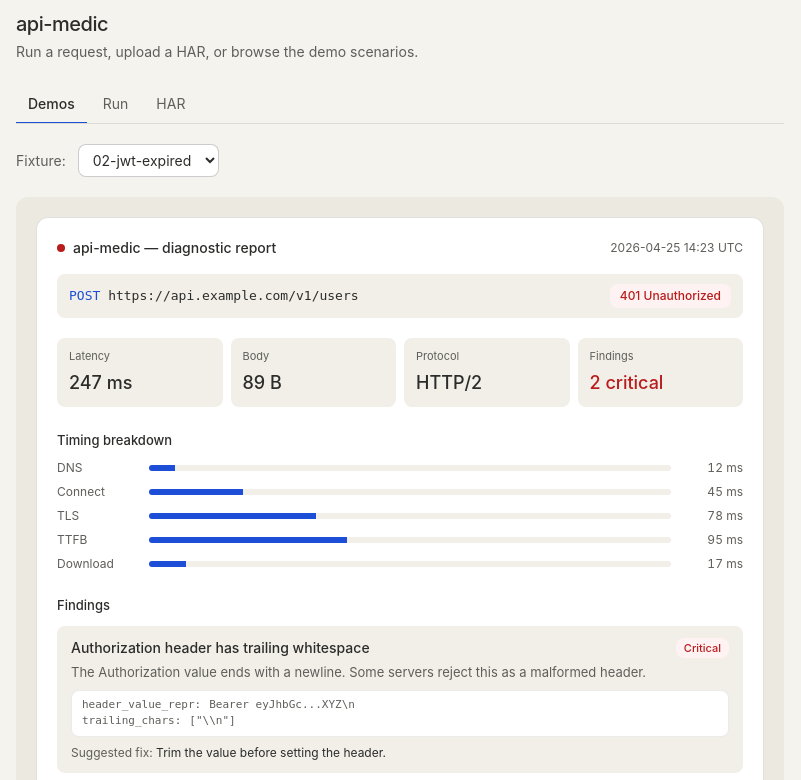
Test: App › switches to the Run tab and shows the composer
The image size is (801, 780).
Step 1. Click the tab "Run" → (116, 105), box top-left (91, 86), bottom-right (140, 124)
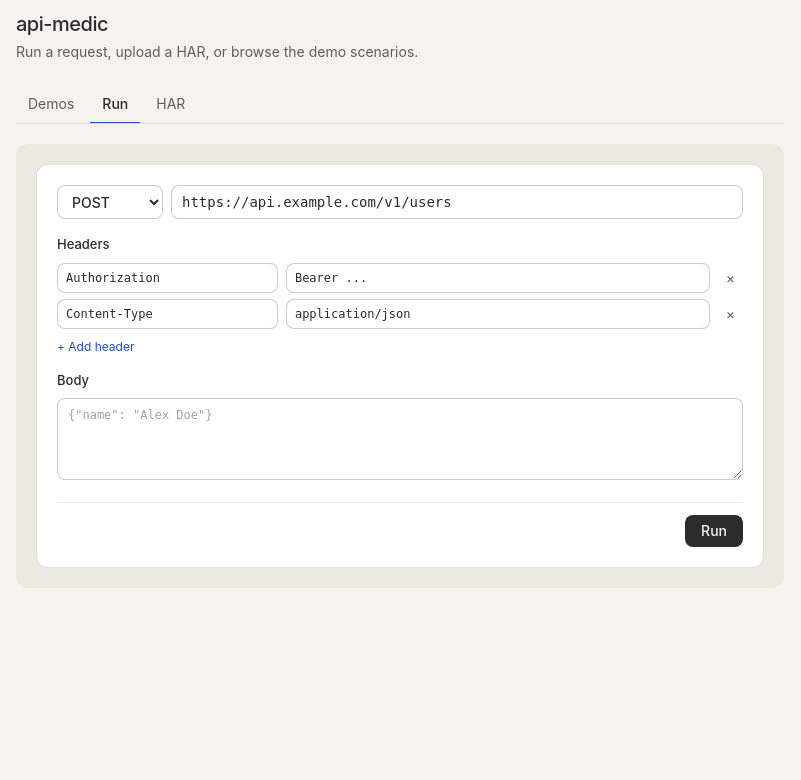
Expected: the button "Run" is shown, top-left (685, 515), bottom-right (743, 547)
Now the field named "URL" is shown, box top-left (171, 185), bottom-right (743, 219)
